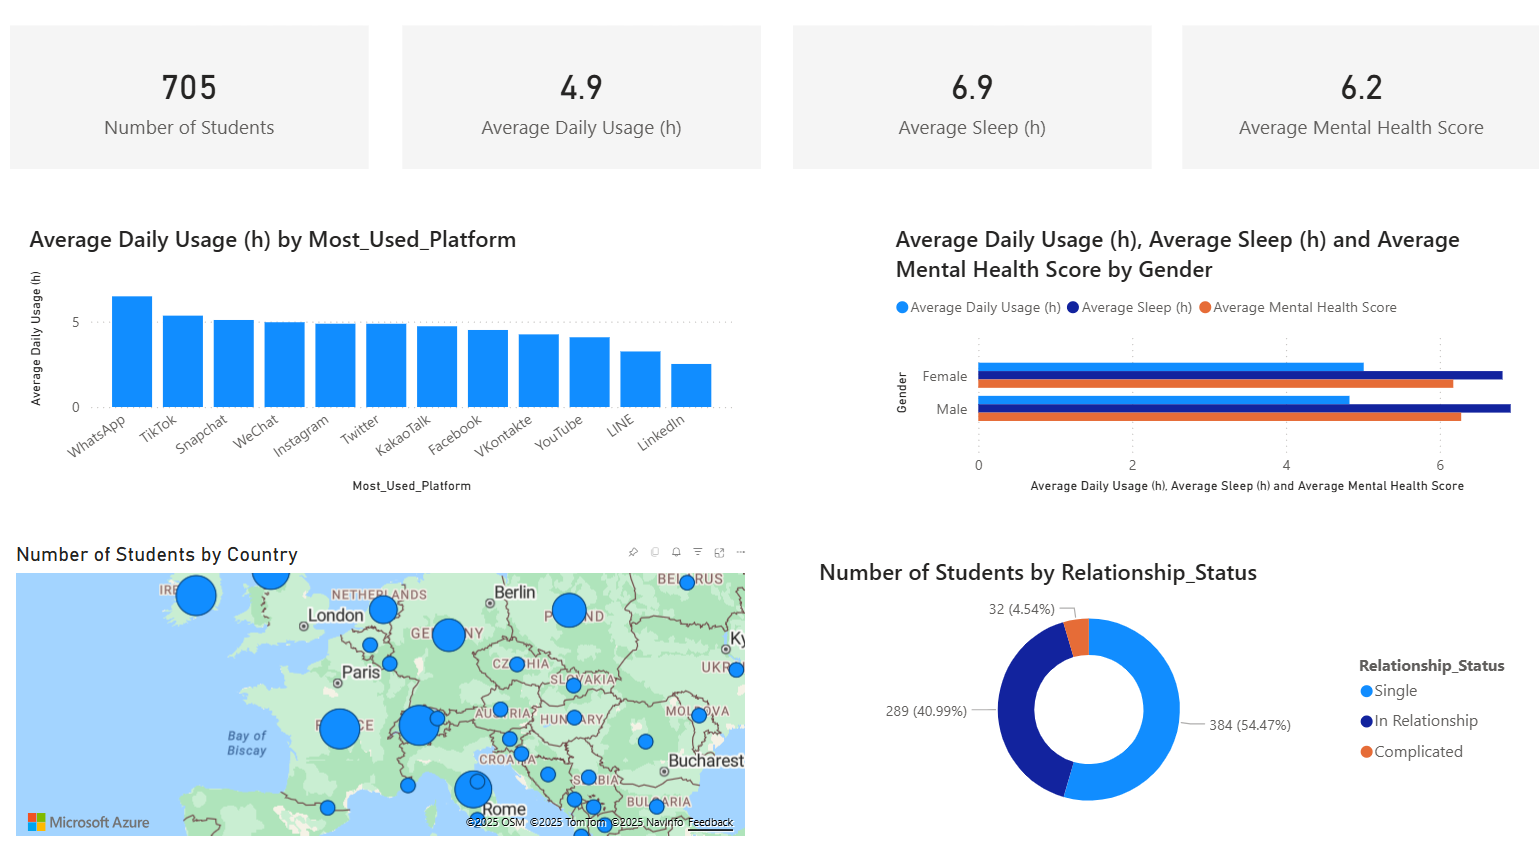

Layout of this report page (visuals, bound fields, positions):
{"tool":"powerbi","page":{"name":"Page 1","canvas":[1280,720],"ordinal":0},"visuals":[{"type":"card","fields":{"Values":["students social media addiction.Number of Students"]},"box":[0,29,299.8,119.9],"z":0},{"type":"clusteredColumnChart","fields":{"Category":["students social media addiction.Most_Used_Platform"],"Y":["students social media addiction.Average Daily Usage (h)"]},"box":[0,181.9,620,250],"z":1000},{"type":"clusteredBarChart","fields":{"Y":["students social media addiction.Average Daily Usage (h)","students social media addiction.Average Sleep (h)","students social media addiction.Average Mental Health Score"],"Category":["students social media addiction.Gender"]},"box":[724.4,181.9,555.6,249.8],"z":2000},{"type":"donutChart","fields":{"Category":["students social media addiction.Relationship_Status"],"Y":["students social media addiction.Number of Students"]},"box":[660.5,460.6,619.5,250],"z":3000},{"type":"card","fields":{"Values":["students social media addiction.Average Daily Usage (h)"]},"box":[327.7,29,299.8,119.9],"z":4000},{"type":"card","fields":{"Values":["students social media addiction.Average Sleep (h)"]},"box":[654.5,29,299.8,119.9],"z":5000},{"type":"card","fields":{"Values":["students social media addiction.Average Mental Health Score"]},"box":[980.2,29,299.8,119.9],"z":6000},{"type":"azureMap","fields":{"Category":["students social media addiction.Country"],"Size":["students social media addiction.Number of Students"]},"box":[0,461,619.6,250],"z":7000}]}

Visuals, with their boxes in screenshot pixels (x1, y1, x2, y2), scaled from the page's 1280x720 canvas onto the 1539x850 screenshot:
card - students social media addiction.Number of Students: (0,34,360,176)
clusteredColumnChart - students social media addiction.Most_Used_Platform x students social media addiction.Average Daily Usage (h): (0,215,745,510)
clusteredBarChart - students social media addiction.Average Daily Usage (h) x students social media addiction.Average Sleep (h): (871,215,1538,510)
donutChart - students social media addiction.Relationship_Status x students social media addiction.Number of Students: (794,544,1538,839)
card - students social media addiction.Average Daily Usage (h): (394,34,754,176)
card - students social media addiction.Average Sleep (h): (787,34,1147,176)
card - students social media addiction.Average Mental Health Score: (1179,34,1538,176)
azureMap - students social media addiction.Country x students social media addiction.Number of Students: (0,544,745,839)
